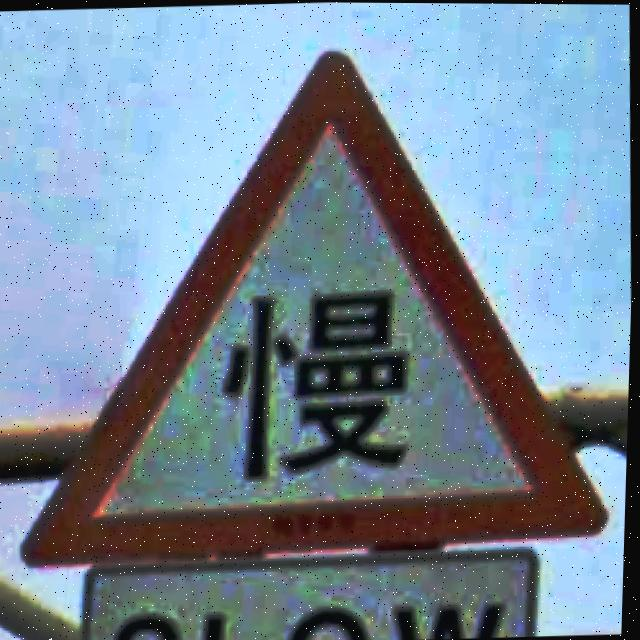slow: (26, 56, 606, 564)
